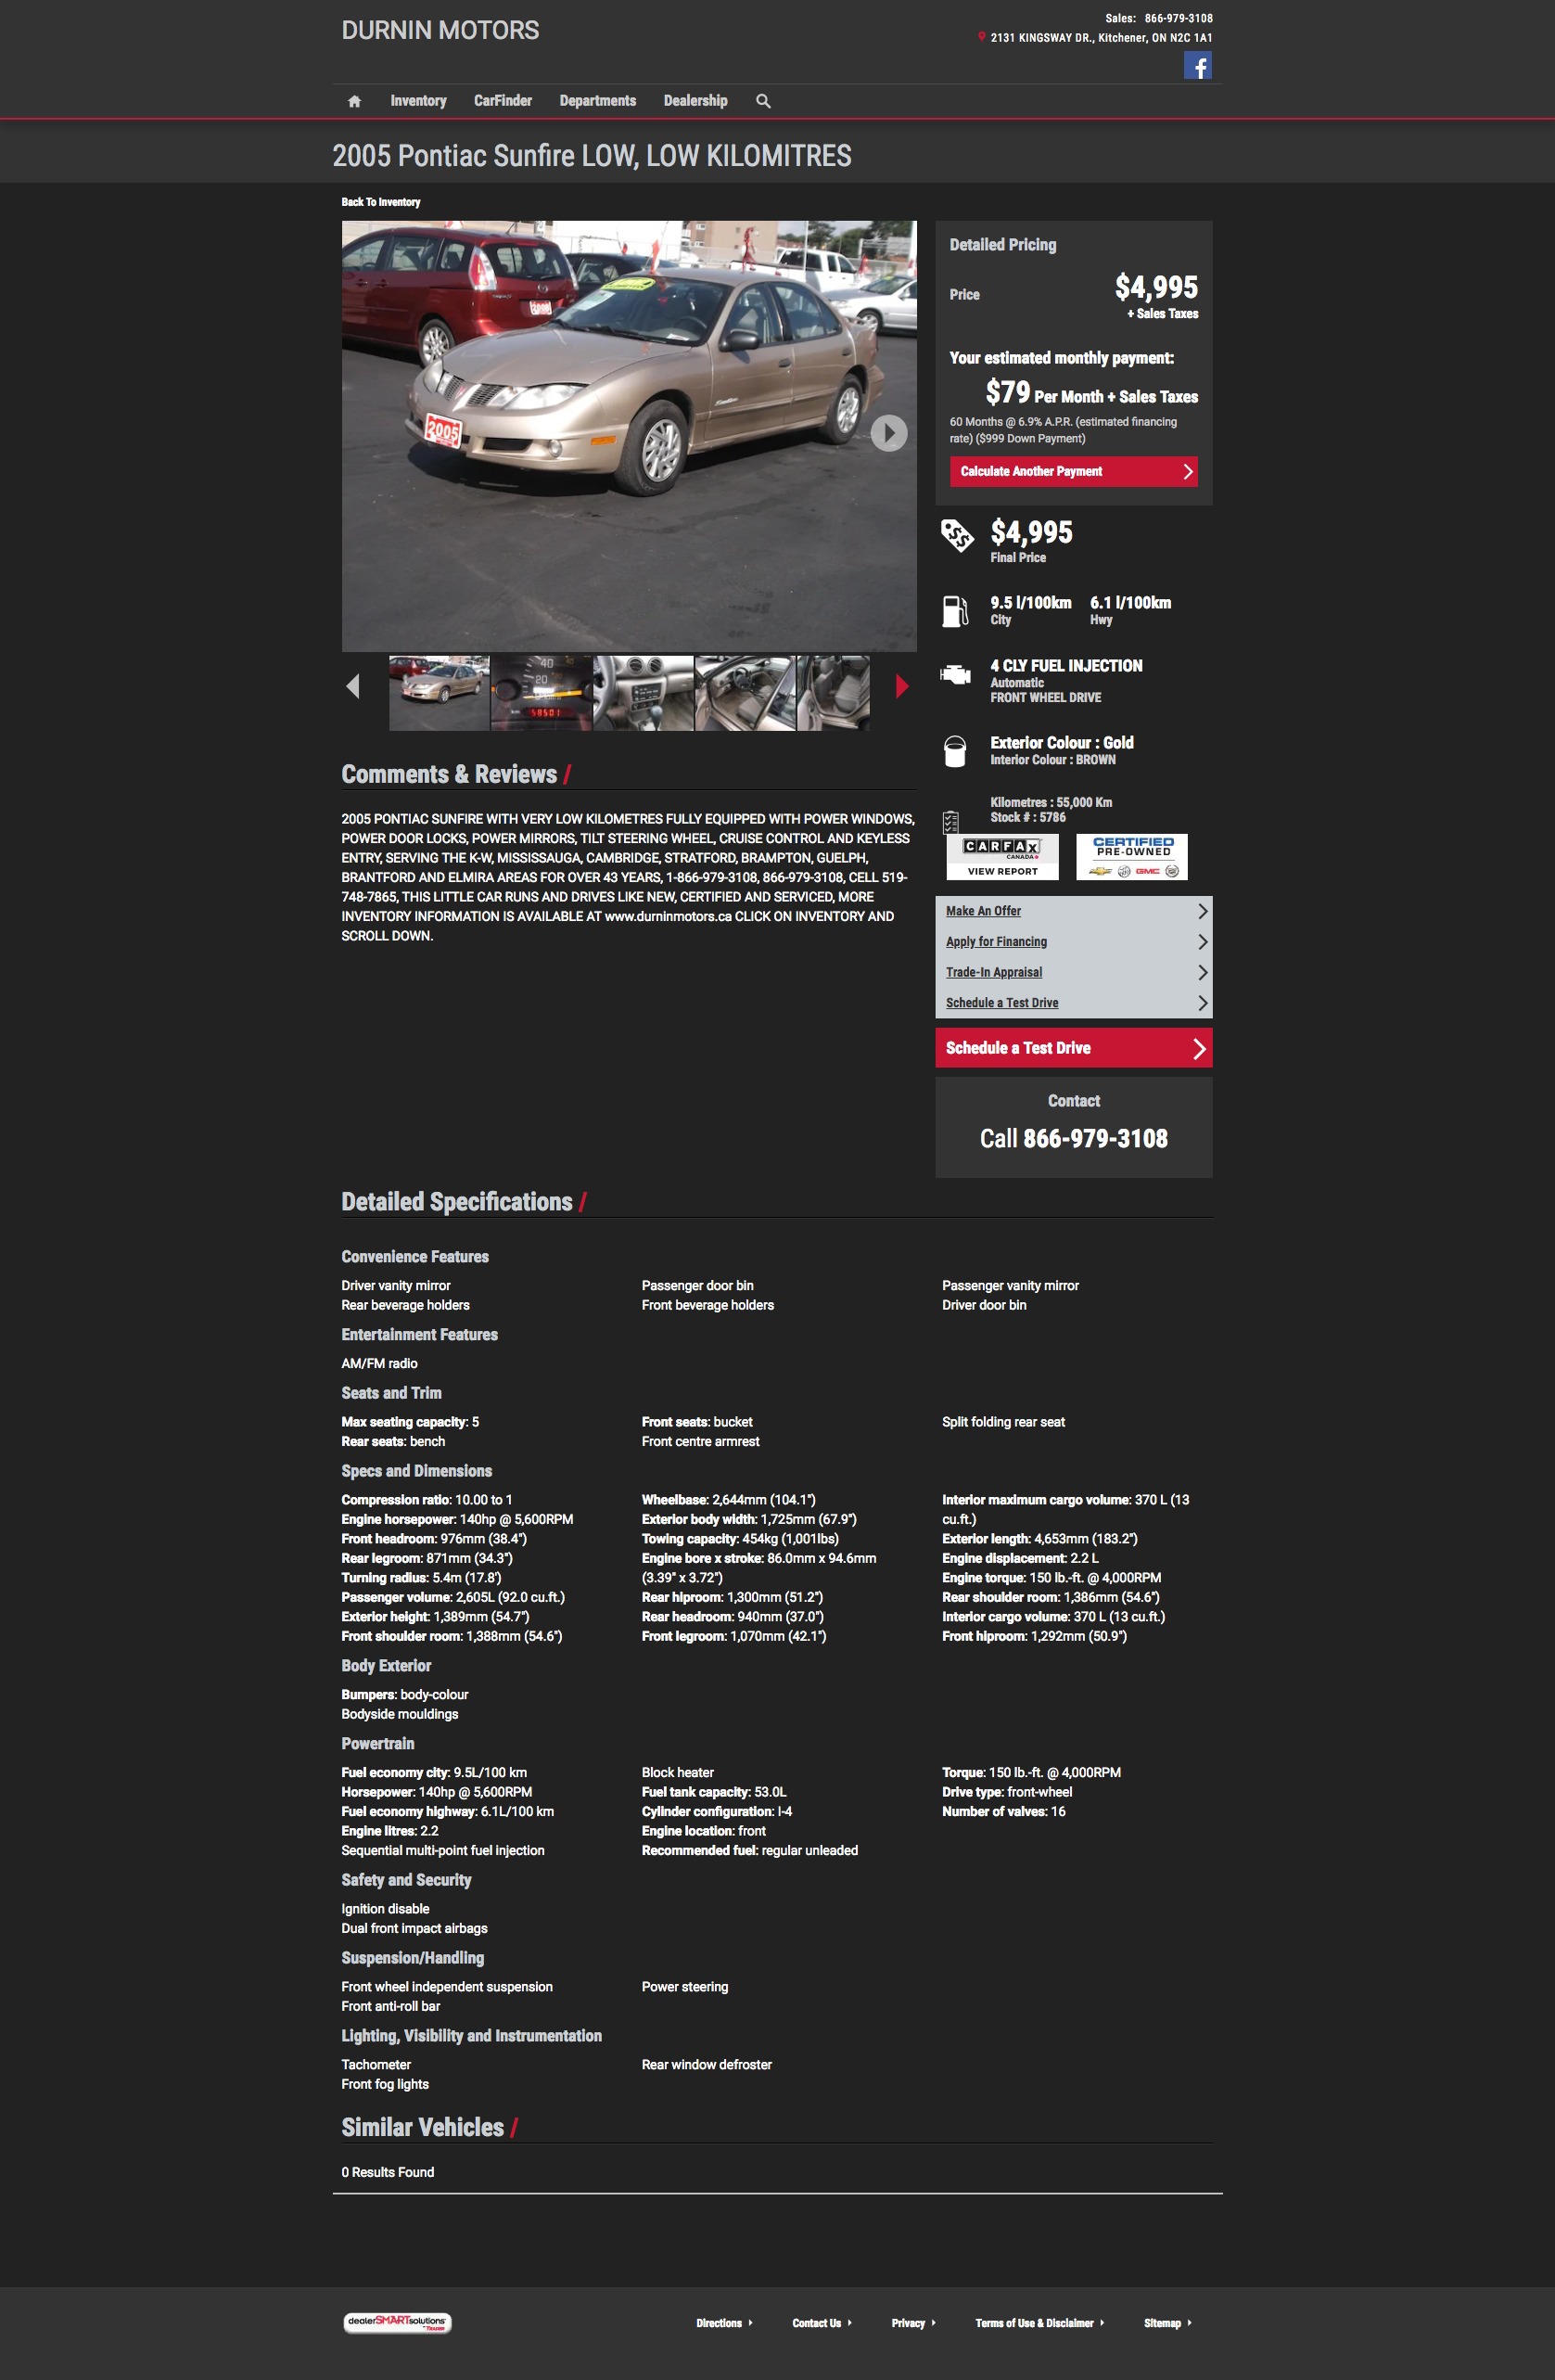car: (896, 675, 909, 700)
